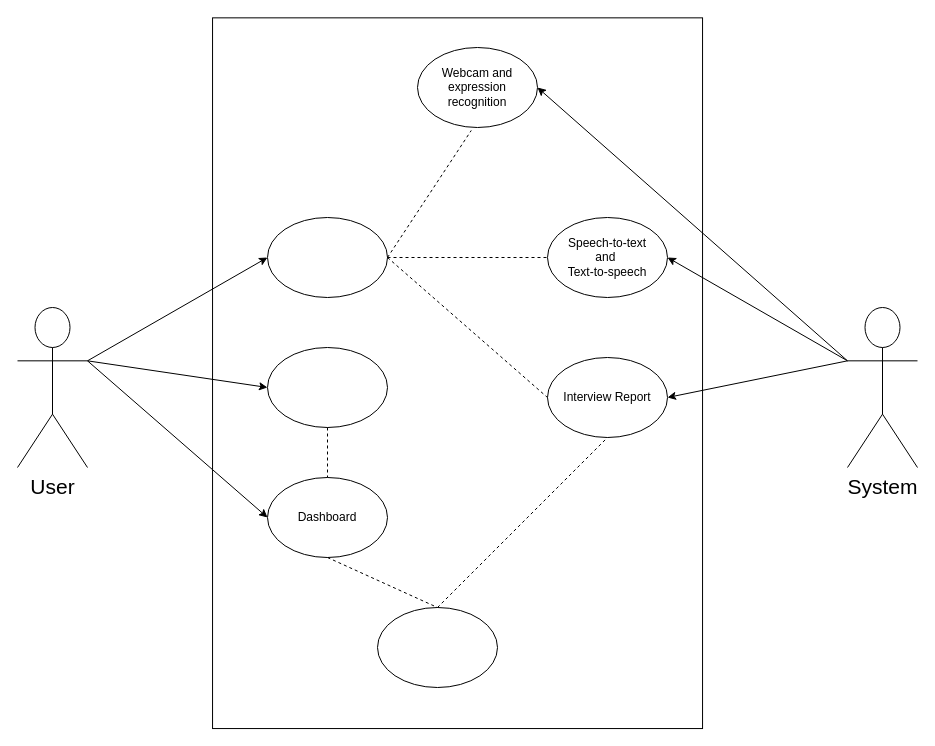
Some shapes in this 935 by 746 pixel diagram are drawn without their labels. The shapes that lost their labels are listed below. From the top down, each one's centre as x and y in pixels, then its label:
At pixel 327 257: "Ai Interview".
At pixel 327 387: "Login".
At pixel 437 647: "Analytics".
